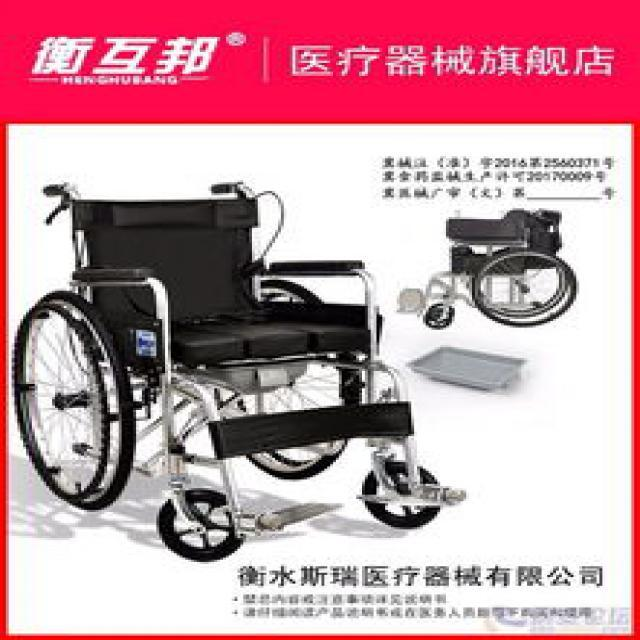wheelchair: (14, 154, 467, 547)
